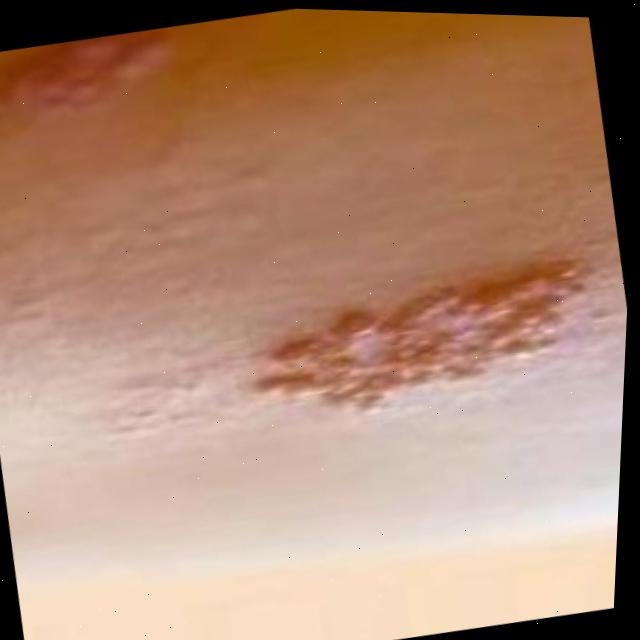Shingles: (243, 244, 603, 432), (0, 25, 166, 115)
